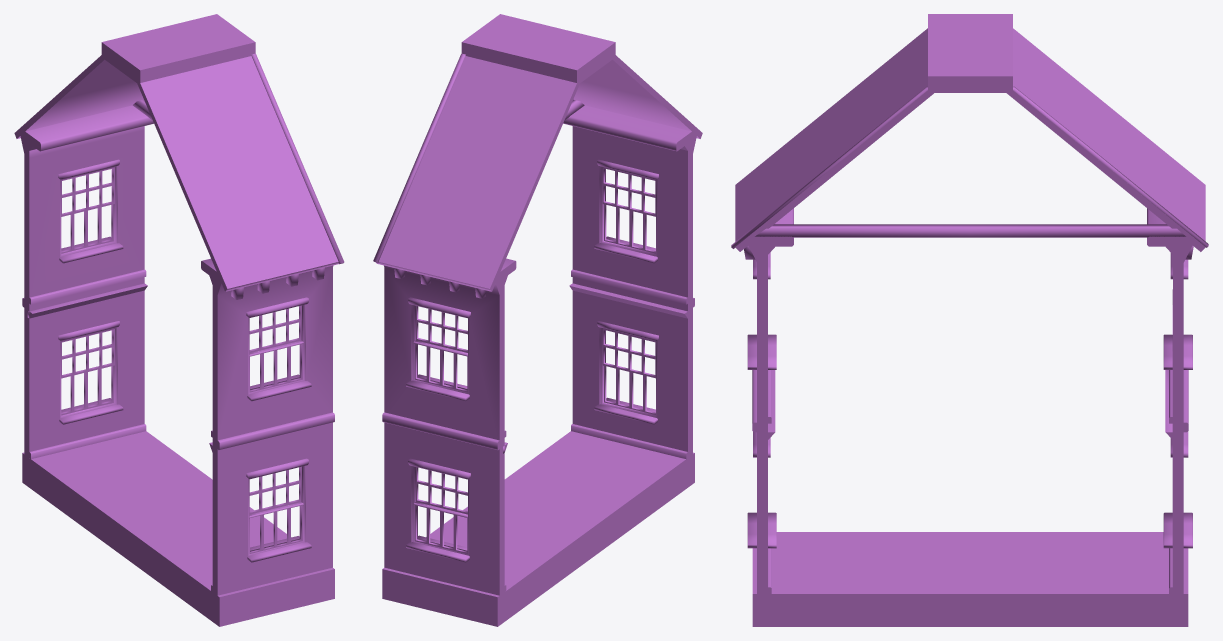
File: BrickHouse_Mid_A.fbx
3 renders of one model, left to right at view 1: azimuth 30°, elevation 25°; view 2: azimuth 150°, elevation 25°; view 3: azimuth 270°, elevation 25°, orthographic. The views are drawn at different scales.
Visible parts, largest first — view 1: BrickHouse_Mid_A; view 2: BrickHouse_Mid_A; view 3: BrickHouse_Mid_A.
Boxes of the visible parts, x1,y1,x2,y2 form: BrickHouse_Mid_A: (14, 14, 344, 626); BrickHouse_Mid_A: (373, 14, 702, 626); BrickHouse_Mid_A: (731, 14, 1208, 626).
Bounding box in the file's own units: 4 × 16.52 × 12.98.
